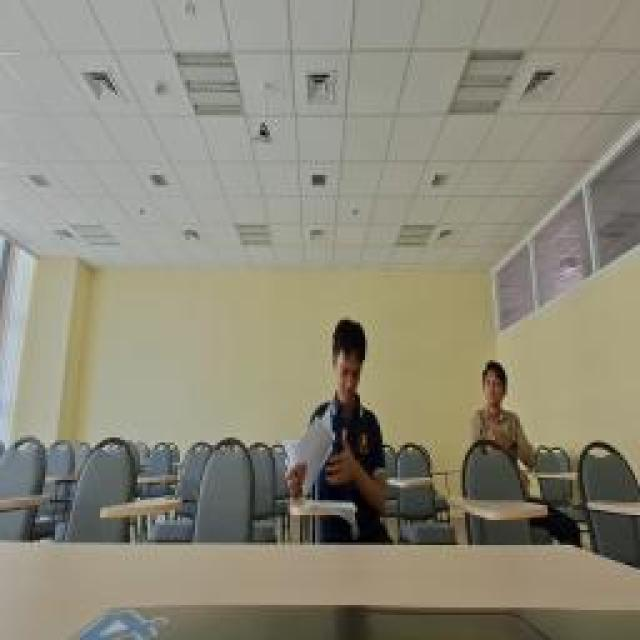study: (292, 310, 390, 542), (462, 348, 542, 498)
